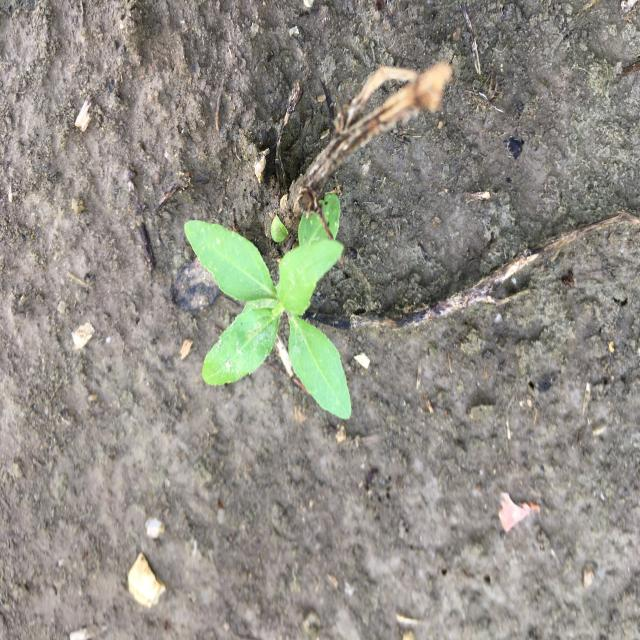Eclipta: (184, 191, 354, 422)
